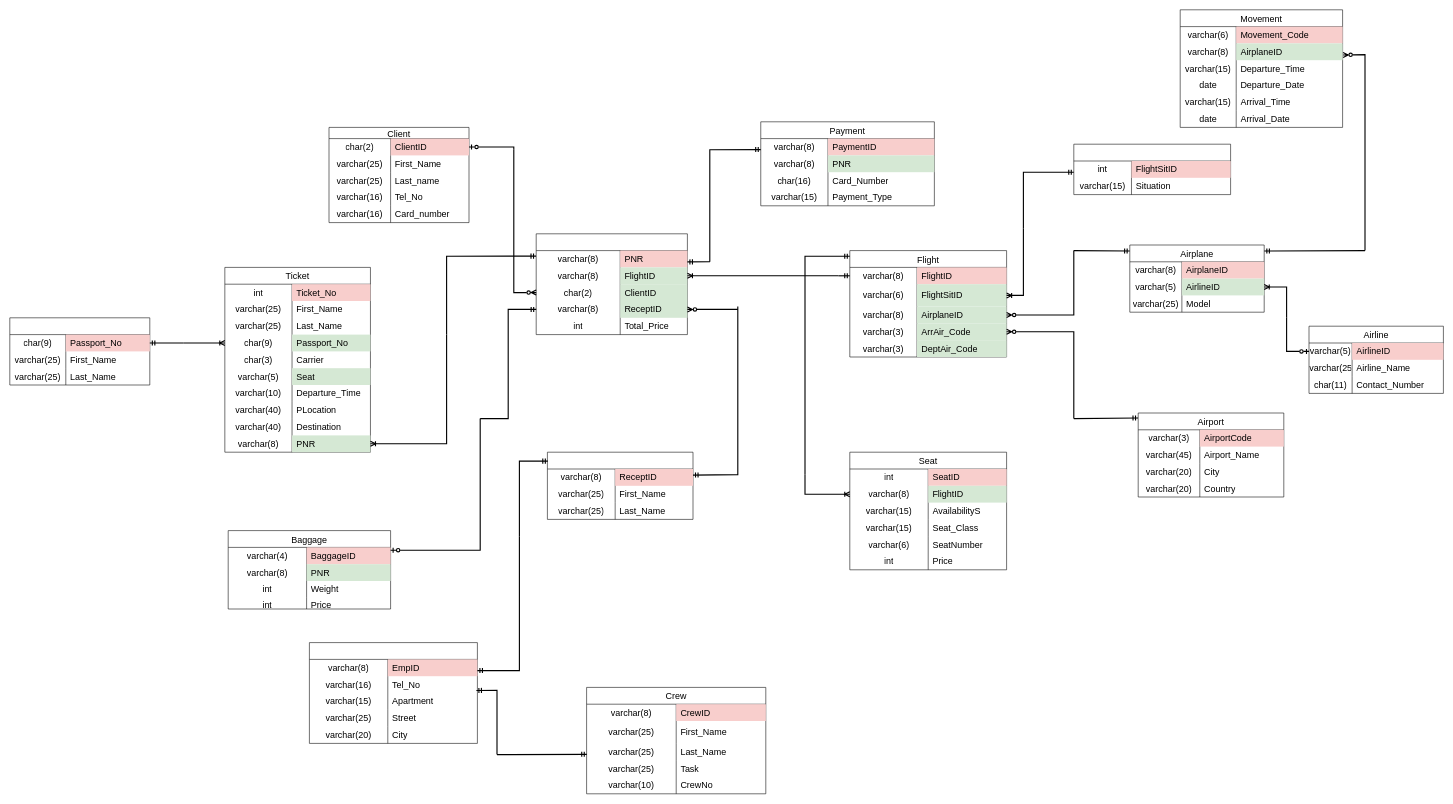
The diagram is 1453 pixels wide and 804 high, and some of its shapes have lost their labels. The box of each missing label's shape, as (x1, y1, x2, y2) in pixels:
Booking: (536, 233, 687, 335)
Employee: (309, 642, 477, 743)
FlightSituation: (1073, 144, 1231, 195)
Passenger: (9, 317, 150, 385)
Receptionist: (547, 452, 693, 519)
